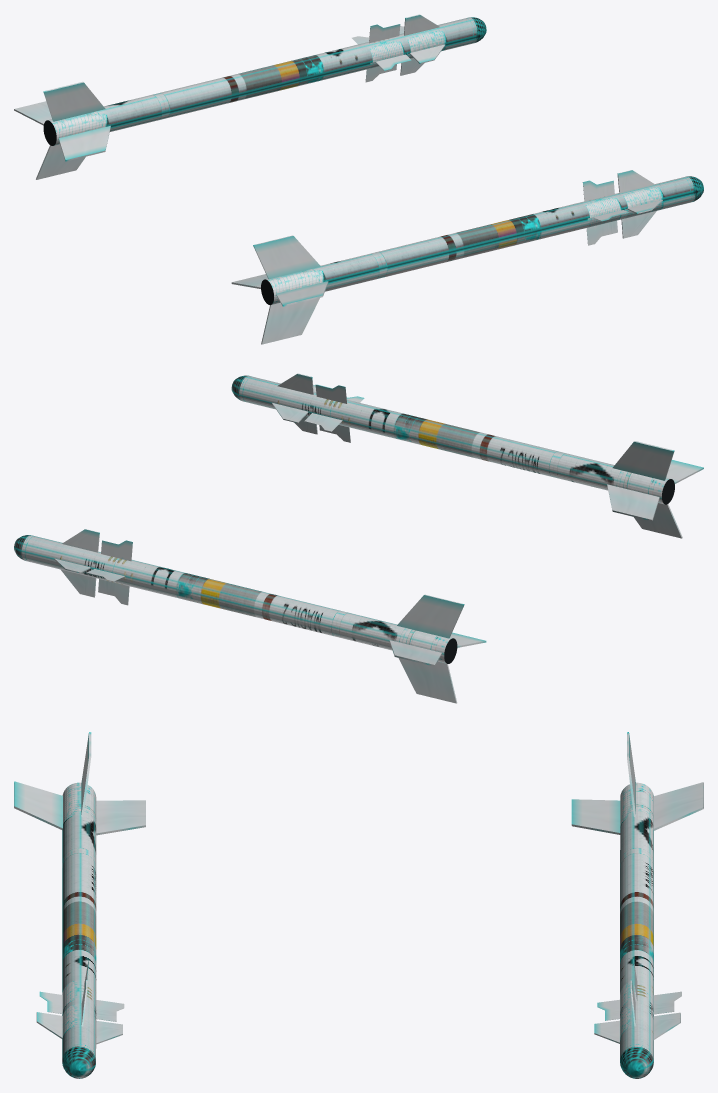
The model's file is rafaler55056.glb.
3 views of the same model, one above another, from view 1: azimuth 30°, elevation 25°; view 2: azimuth 150°, elevation 25°; view 3: azimuth 270°, elevation 25° (orthographic). The views are drawn at different scales.
Parts seen in each view (by area): view 1: 立方体.017, 立方体.018; view 2: 立方体.018, 立方体.017; view 3: 立方体.017, 立方体.018.
Boxes of the visible parts, <box> form: 立方体.017: <box>231,170,703,344</box>; 立方体.018: <box>14,14,486,179</box>; 立方体.018: <box>14,529,486,703</box>; 立方体.017: <box>231,373,703,538</box>; 立方体.017: <box>14,732,145,1078</box>; 立方体.018: <box>571,732,703,1078</box>.
Size of the model in its own units: 3.19 by 0.6384 by 3.33.
2 materials, 2 textured.
